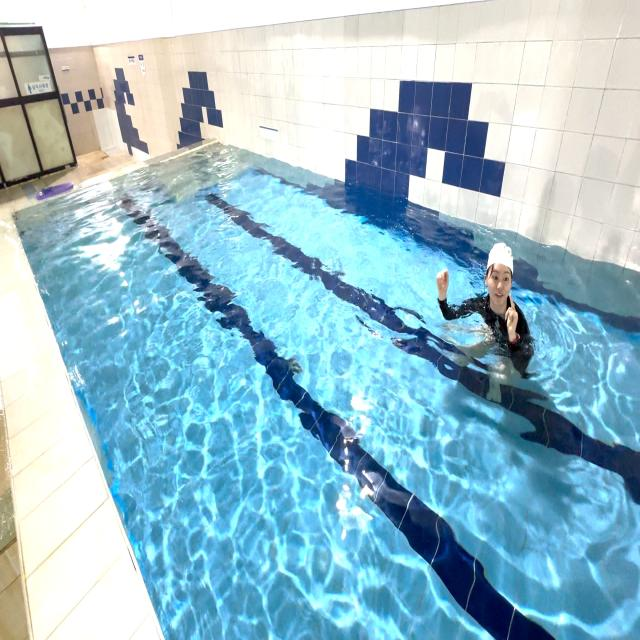Swimming: (434, 238, 538, 391)
